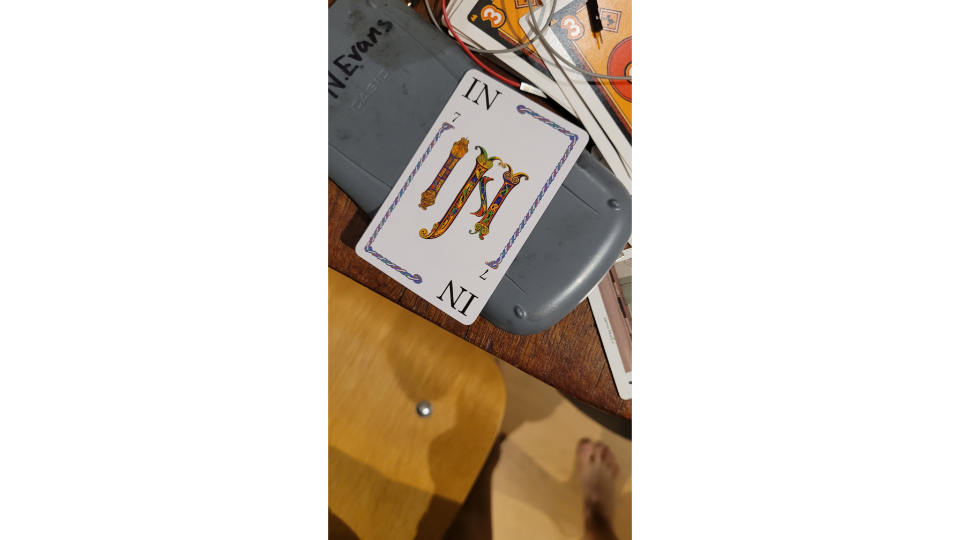IN: (352, 67, 593, 330)
